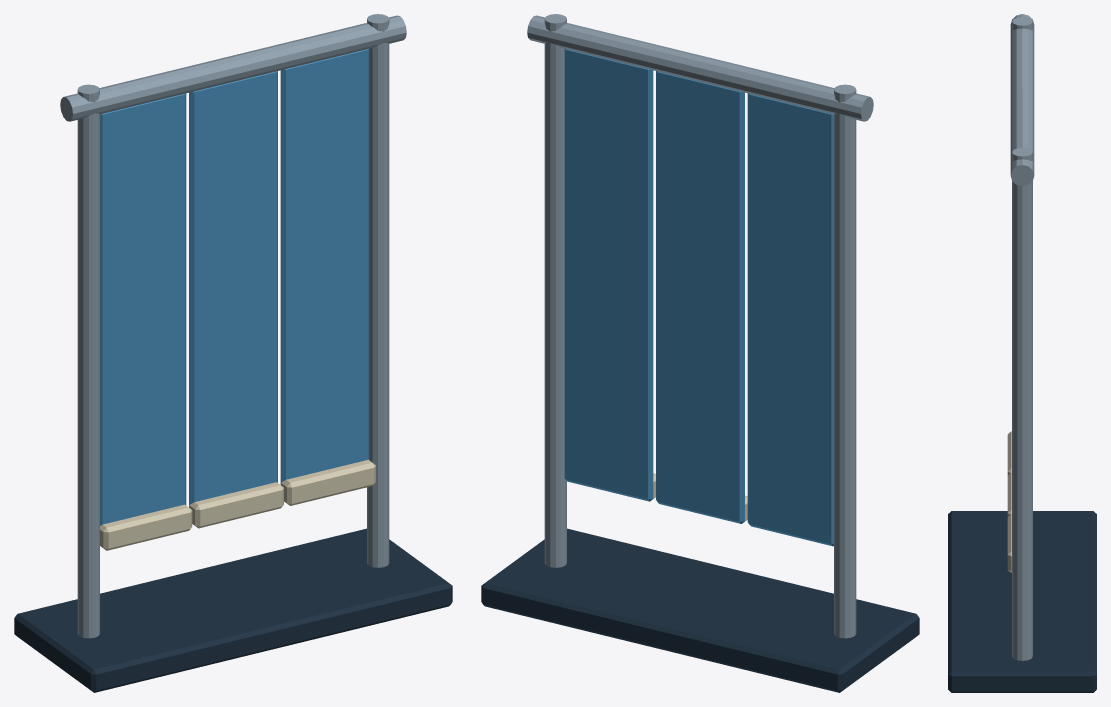
Rendered from paper_roll.glb.
3 renders of one model, left to right at view 1: azimuth 30°, elevation 25°; view 2: azimuth 150°, elevation 25°; view 3: azimuth 270°, elevation 25°, orthographic. The views are drawn at different scales.
Parts seen in each view (by area): view 1: Base, Target2, Target1, Target0; view 2: Base, Target2, Target1, Target0; view 3: Base, Target2.
Boxes of the visible parts, left/top/right/bottom form: Base: left=14, top=14, right=452, bottom=692; Target2: left=280, top=49, right=375, bottom=505; Target1: left=189, top=71, right=283, bottom=528; Target0: left=100, top=93, right=192, bottom=550; Base: left=481, top=14, right=919, bottom=692; Target2: left=564, top=49, right=655, bottom=501; Target1: left=656, top=71, right=747, bottom=523; Target0: left=747, top=93, right=833, bottom=546; Base: left=948, top=14, right=1096, bottom=692; Target2: left=1007, top=514, right=1011, bottom=572.
Size of the model in its own units: 1.3 by 1.95 by 0.5.
